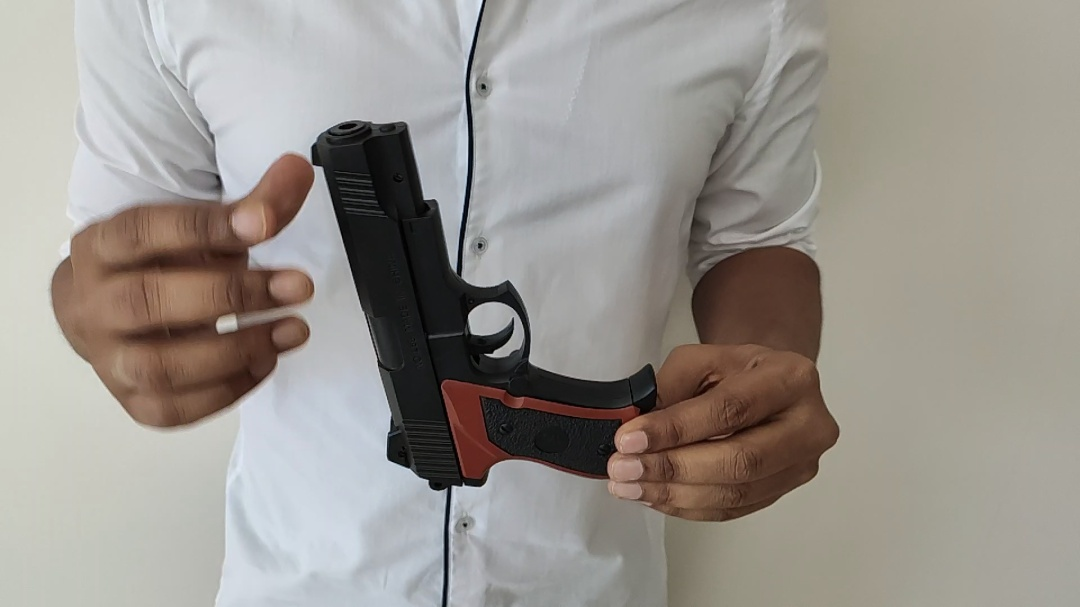gun: (311, 115, 658, 491)
